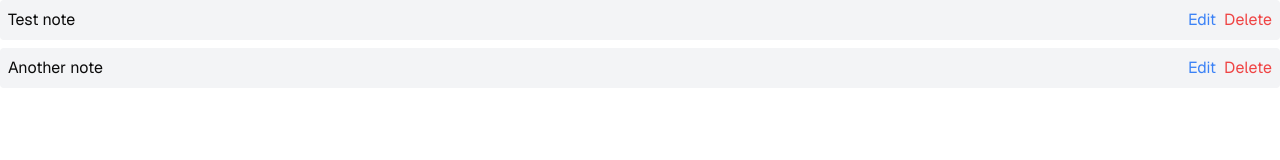
Test: NotesList › can enter edit mode
Expected: the text "Test note" is shown, [8,8,75,32]
What coordinates should you click on to do the following:
click the button "Edit" in the row of "Test note"
I would click on:
 (1202, 20)
Its box is [1188,8,1216,32].
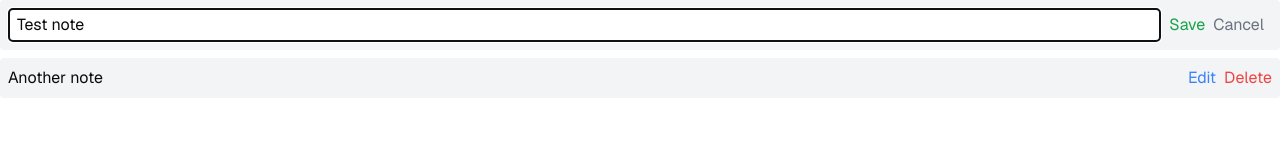
Expected: the field showing "Test note" is shown, [8,8,1161,42]
